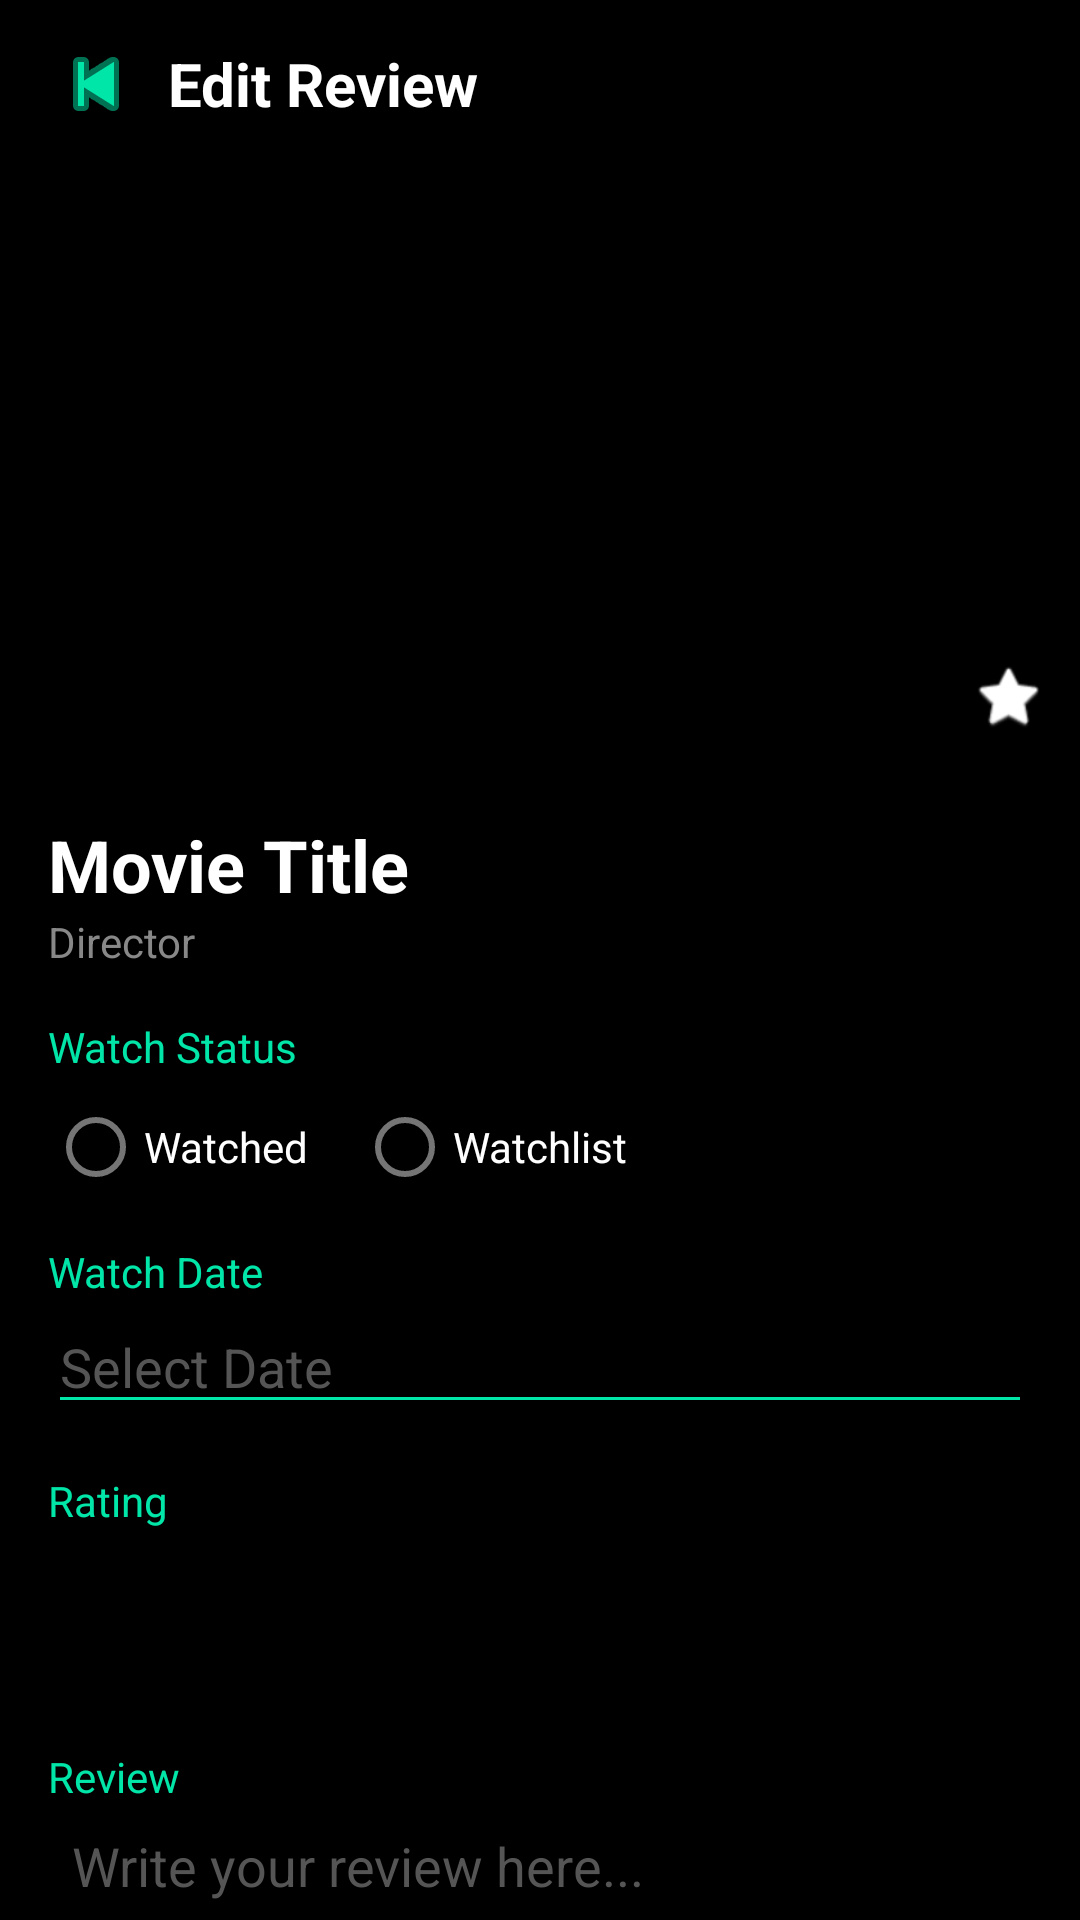

Named icons in this screenshot (1080w x 1920h) and their centers, [x,y]:
previous: [96,84]
